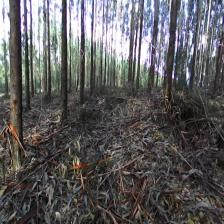trunk: (9, 0, 22, 158), (165, 7, 178, 98), (147, 5, 159, 95), (60, 3, 68, 120), (135, 13, 143, 90), (46, 14, 52, 98), (24, 27, 30, 110), (80, 13, 84, 104), (89, 24, 94, 92)
